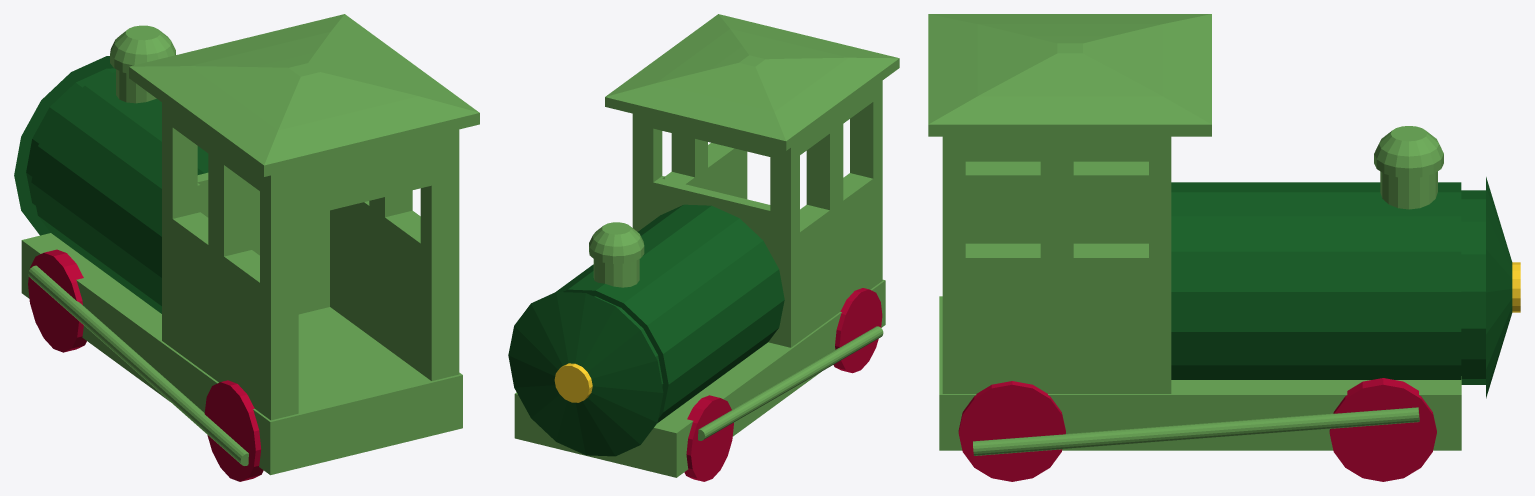
File: fbxTrain.fbx
The picture shows the model from 3 angles, left to right: view 1: azimuth 30°, elevation 25°; view 2: azimuth 150°, elevation 25°; view 3: azimuth 270°, elevation 25°; orthographic projection. The views are drawn at different scales.
Parts seen in each view (by area): view 1: Train; view 2: Train; view 3: Train.
Part boxes in pixels (x1,y1,x2,y2): Train: [14, 14, 479, 481]; Train: [508, 14, 899, 481]; Train: [928, 14, 1520, 481].
Size of the model in its own units: 228 by 360 by 507.
